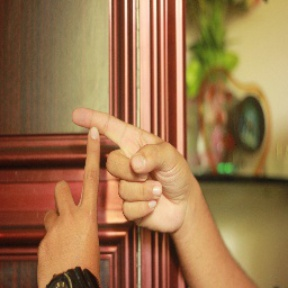T: (43, 103, 160, 239)
